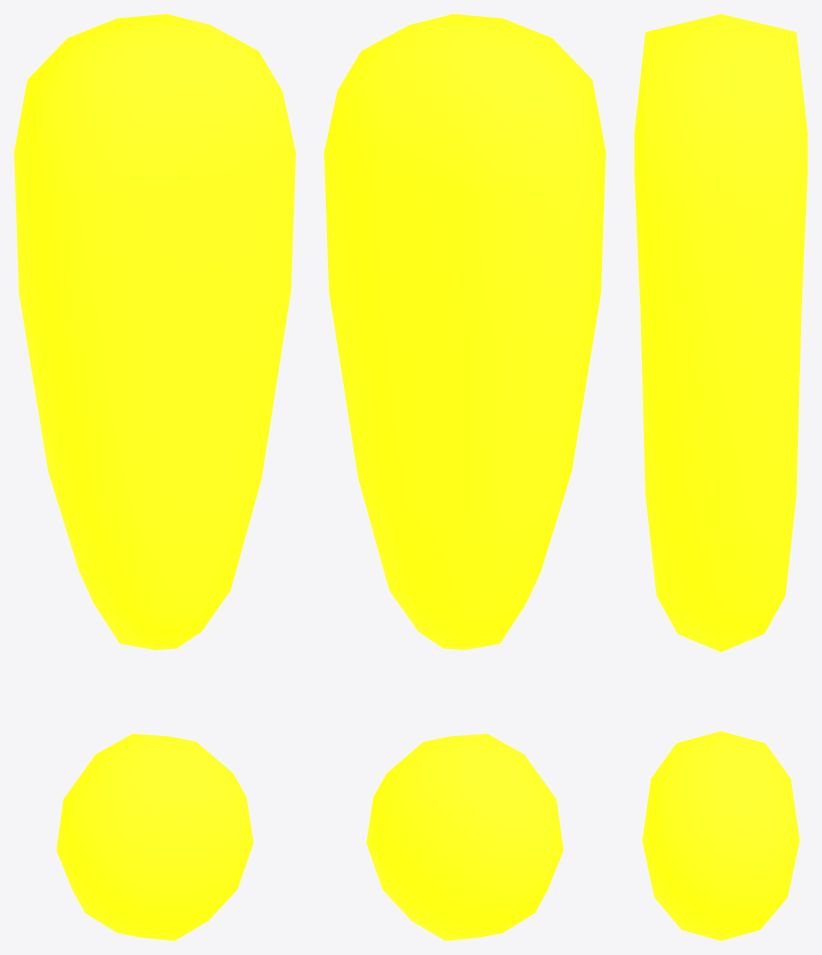
Rendered from excmark.fbx.
3 views of the same model, side by side, from view 1: azimuth 30°, elevation 25°; view 2: azimuth 150°, elevation 25°; view 3: azimuth 270°, elevation 25° (orthographic).
Visible parts, largest first — view 1: exc_mark_top, exc_mark_bottom; view 2: exc_mark_top, exc_mark_bottom; view 3: exc_mark_top, exc_mark_bottom.
Part boxes in pixels (bbox=[...]): exc_mark_top: bbox=[14, 14, 295, 649]; exc_mark_bottom: bbox=[56, 734, 253, 940]; exc_mark_top: bbox=[324, 14, 605, 649]; exc_mark_bottom: bbox=[366, 734, 563, 940]; exc_mark_top: bbox=[634, 14, 807, 651]; exc_mark_bottom: bbox=[642, 731, 799, 940].
Bounding box in the file's own units: 6.98 × 25.11 × 4.37.
